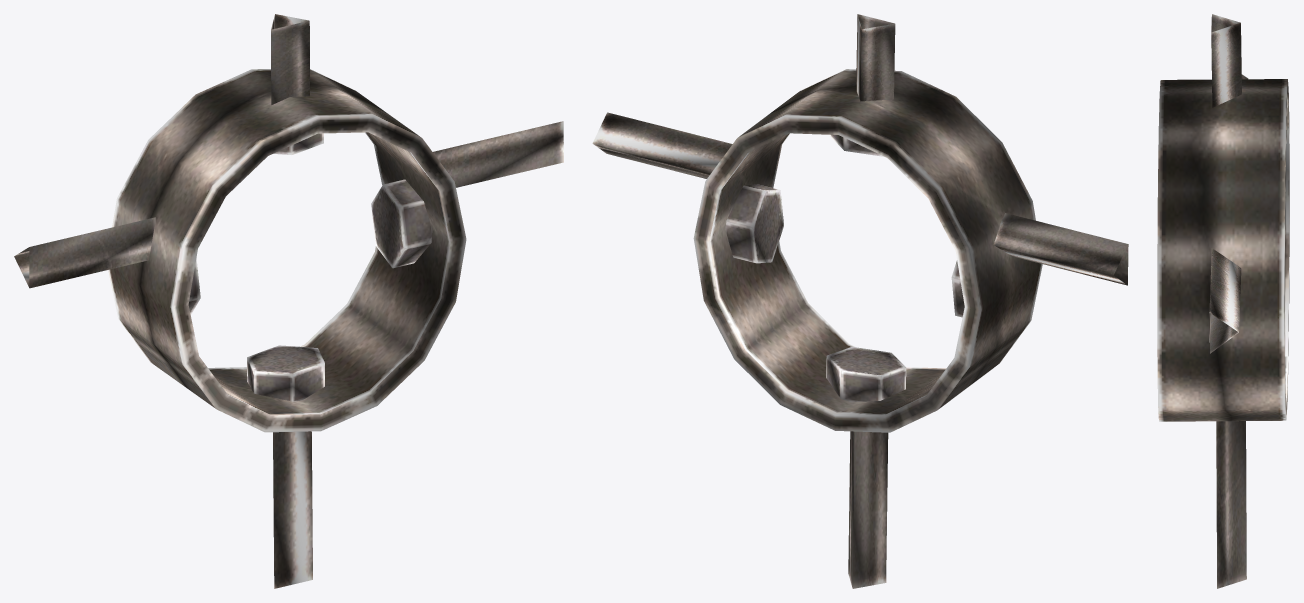
The model's file is Robot01.Chest1.fbx.
3 renders of one model, left to right at view 1: azimuth 30°, elevation 25°; view 2: azimuth 150°, elevation 25°; view 3: azimuth 270°, elevation 25°, orthographic.
Parts seen in each view (by area): view 1: Robot01.Chest1; view 2: Robot01.Chest1; view 3: Robot01.Chest1.
Boxes of the visible parts, x1,y1,x2,y2 form: Robot01.Chest1: [14, 14, 563, 588]; Robot01.Chest1: [592, 14, 1128, 588]; Robot01.Chest1: [1157, 14, 1289, 588].
Size of the model in its own units: 73.75 by 74.84 by 16.21.
